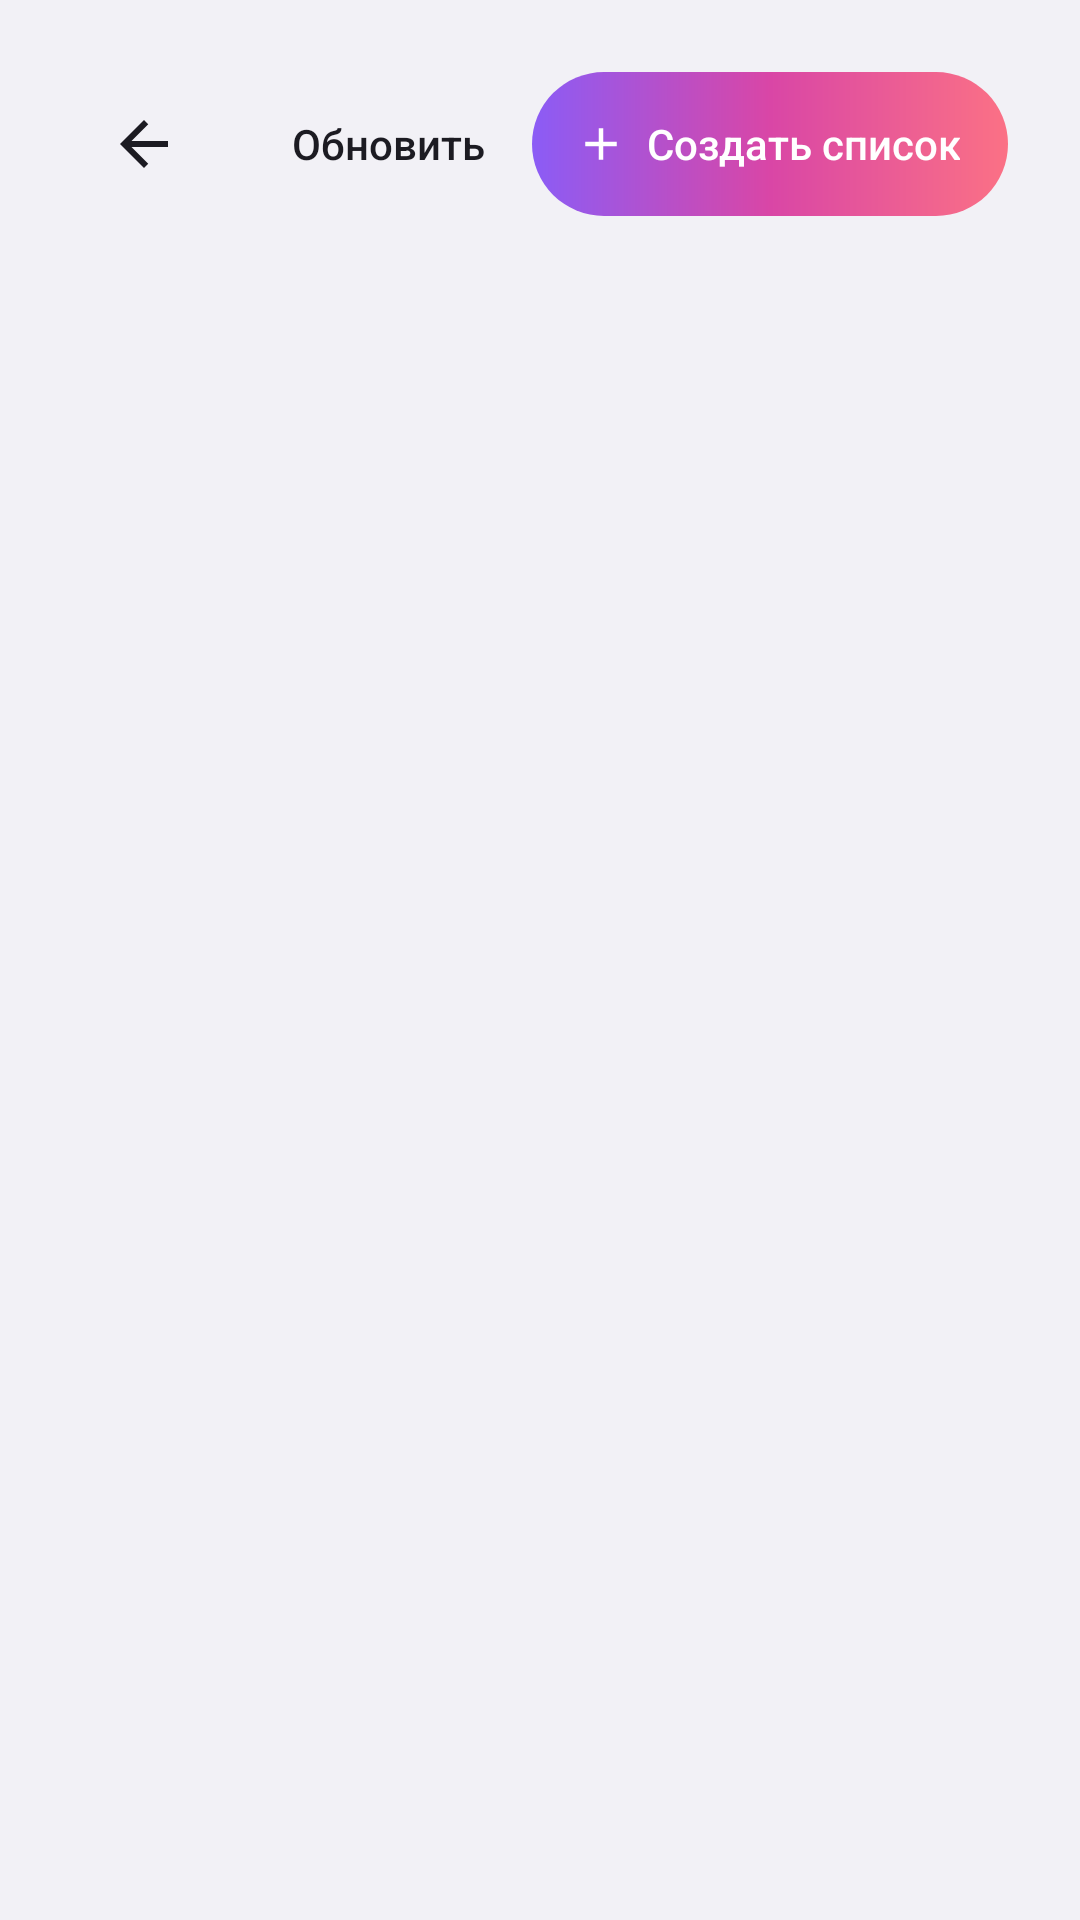

Icon bounding boxes for this 1080 x 1920 phone screenshot, format (x1, y1, x2, y2):
Назад: (120, 120, 168, 168)
